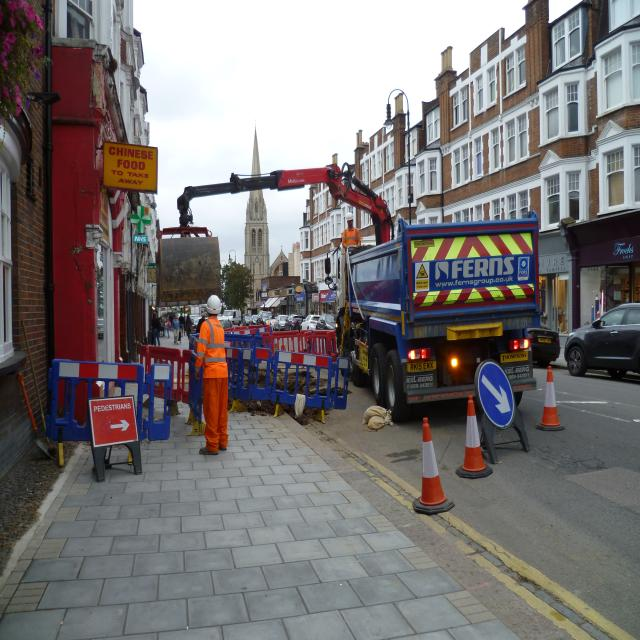body: (192, 294, 230, 458), (342, 212, 362, 300), (150, 312, 160, 347), (172, 313, 182, 345), (196, 313, 207, 334), (185, 314, 192, 340), (178, 312, 184, 337), (165, 311, 179, 321), (166, 317, 172, 339), (161, 314, 167, 335), (168, 312, 174, 332), (185, 315, 190, 336), (294, 309, 302, 315), (241, 312, 243, 324), (247, 313, 249, 315)
